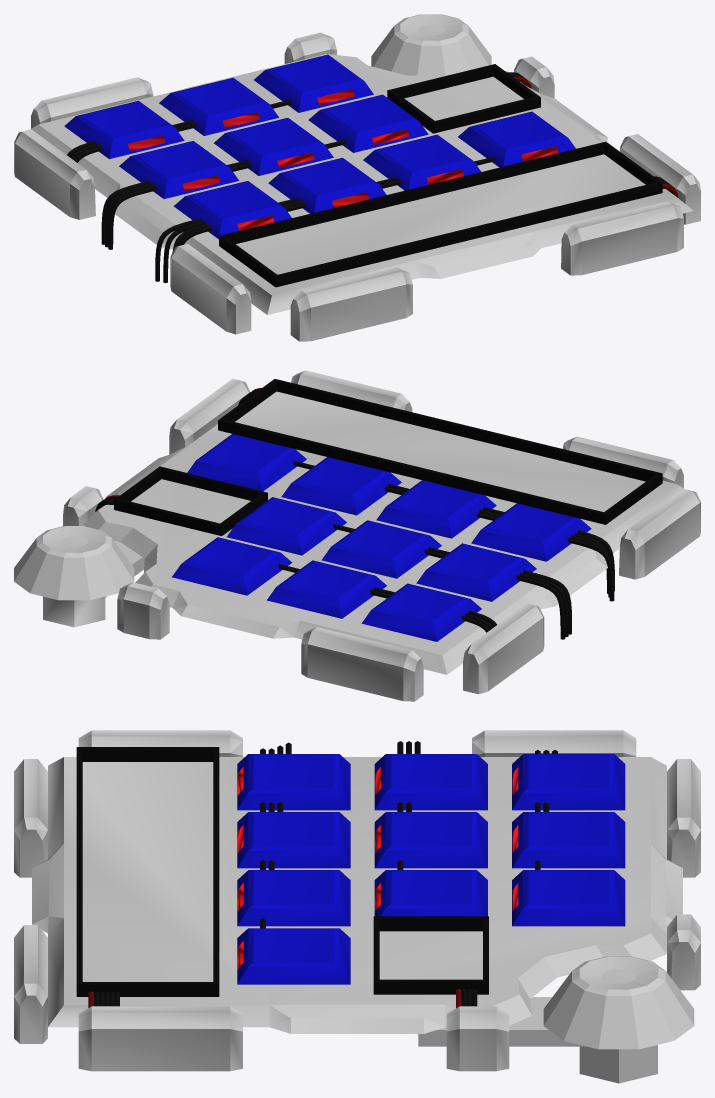
The model's file is Combined Model.obj.
The picture shows the model from 3 angles, top to bottom: view 1: azimuth 30°, elevation 25°; view 2: azimuth 150°, elevation 25°; view 3: azimuth 270°, elevation 25°; orthographic projection. The views are drawn at different scales.
Parts seen in each view (by area): view 1: Background, Button1, Edge.001, LED, NurbsCurve_CUNurbsCurve.001, NurbsCurve.001_CUNurbsCurve.000, NurbsCurve.002_CUNurbsCurve.002; view 2: Background, Button1, Edge.001, NurbsCurve_CUNurbsCurve.001, NurbsCurve.001_CUNurbsCurve.000, NurbsCurve.002_CUNurbsCurve.002; view 3: Background, Button1, Edge.001, LED, NurbsCurve_CUNurbsCurve.001.
Part boxes in pixels (bbox=[...]): Background: bbox=[14, 14, 700, 341]; Button1: bbox=[64, 54, 575, 239]; Edge.001: bbox=[219, 64, 662, 287]; LED: bbox=[128, 89, 558, 230]; NurbsCurve_CUNurbsCurve.001: bbox=[155, 156, 496, 283]; NurbsCurve.001_CUNurbsCurve.000: bbox=[101, 139, 346, 249]; NurbsCurve.002_CUNurbsCurve.002: bbox=[67, 99, 292, 162]; Background: bbox=[14, 370, 700, 701]; Button1: bbox=[172, 434, 591, 641]; Edge.001: bbox=[114, 379, 662, 535]; NurbsCurve_CUNurbsCurve.001: bbox=[293, 460, 614, 601]; NurbsCurve.001_CUNurbsCurve.000: bbox=[333, 524, 571, 639]; NurbsCurve.002_CUNurbsCurve.002: bbox=[278, 564, 497, 632]; Background: bbox=[14, 730, 700, 1083]; Button1: bbox=[237, 754, 625, 984]; Edge.001: bbox=[76, 747, 488, 996]; LED: bbox=[237, 767, 518, 969]; NurbsCurve_CUNurbsCurve.001: bbox=[260, 742, 291, 928].
Size of the model in its own units: 2 by 0.2993 by 2.
